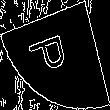P_E: (31, 30, 79, 80)
